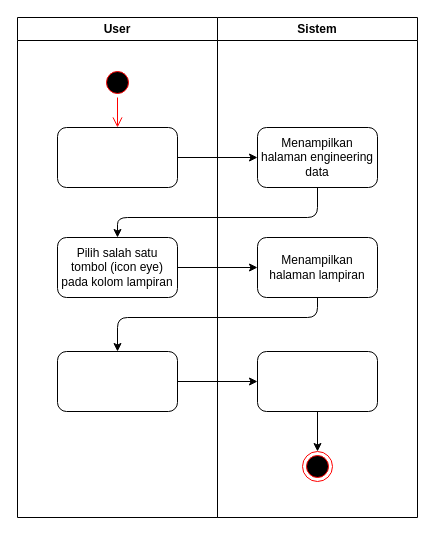
Some shapes in this 435 by 535 pixel diagram are drawn without their labels. The shapes that lost their labels are listed below. From the top down, each one's centre as x and y in pixels, then its label:
(x=117, y=157): Membuka halaman engineering data
(x=117, y=381): Pilih tombol hapus (icon stop) pada salah satu lampiran
(x=317, y=381): Perubahan data tersimpan
